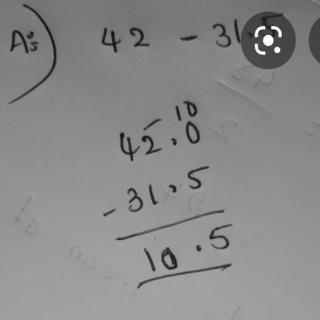.: (193, 237, 204, 254), (168, 133, 181, 147), (168, 182, 182, 193)
0: (183, 120, 203, 143), (161, 247, 180, 271), (185, 97, 200, 118)
1: (143, 246, 157, 272), (233, 18, 242, 45), (173, 102, 182, 124), (148, 183, 156, 205)
2: (126, 22, 149, 50), (141, 133, 162, 154)
3: (124, 184, 145, 212), (212, 23, 230, 49)
4: (101, 23, 123, 54), (120, 132, 140, 163)
5: (210, 221, 231, 250), (188, 165, 210, 188)
